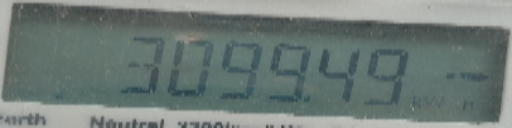0: (168, 27, 213, 103)
3: (124, 28, 164, 99)
4: (320, 38, 358, 113)
9: (215, 23, 261, 109), (363, 33, 408, 113), (264, 39, 309, 108)
d: (303, 90, 313, 105)
